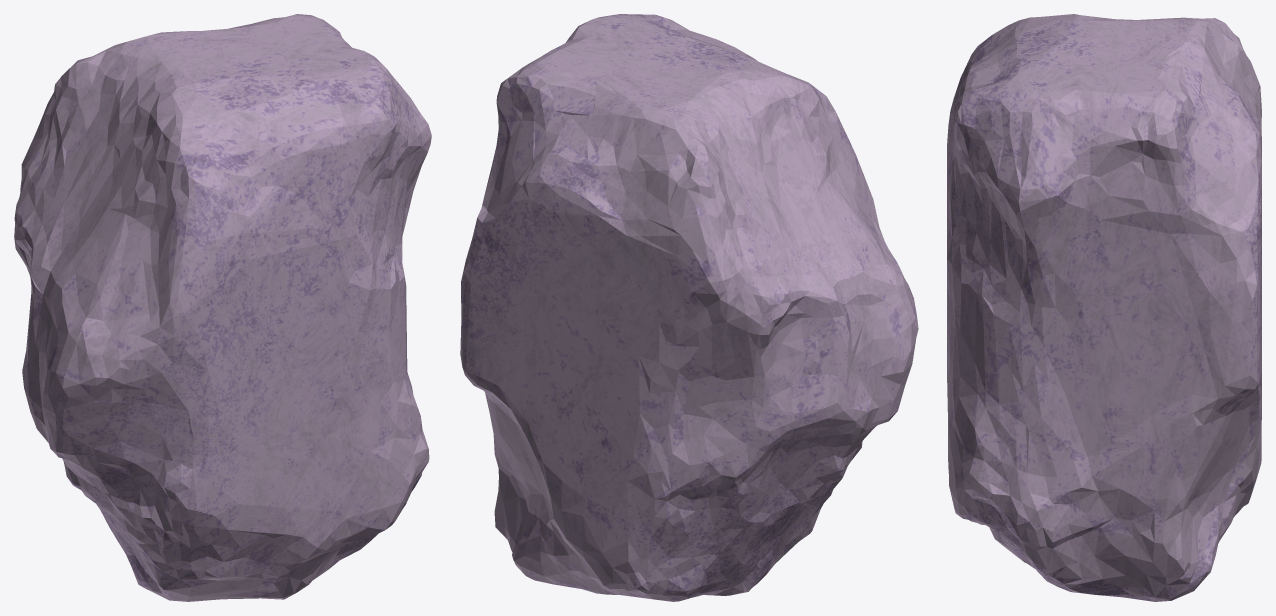
The model's file is 4rock4.glb.
The picture shows the model from 3 angles, left to right: view 1: azimuth 30°, elevation 25°; view 2: azimuth 150°, elevation 25°; view 3: azimuth 270°, elevation 25°; orthographic projection.
Parts seen in each view (by area): view 1: rock4; view 2: rock4; view 3: rock4.
Part boxes in pixels (x1,y1,x2,y2): rock4: (14, 14, 431, 601); rock4: (460, 14, 918, 601); rock4: (947, 14, 1261, 601).
Size of the model in its own units: 1.88 by 2.46 by 1.39.
Materials: 1 (1 with a texture image).
